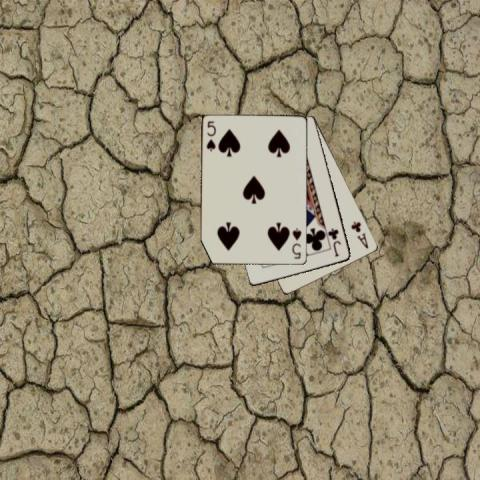5s: (204, 118, 218, 152), (290, 225, 303, 260)
Ac: (348, 219, 370, 250)
Jc: (326, 225, 343, 258)
